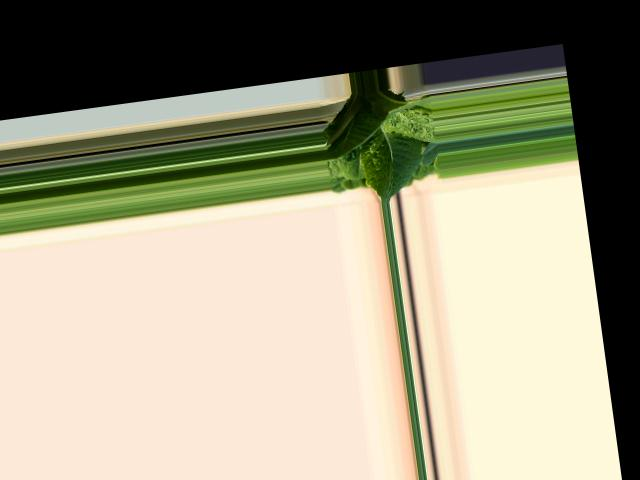lettuce: (320, 84, 431, 198)
